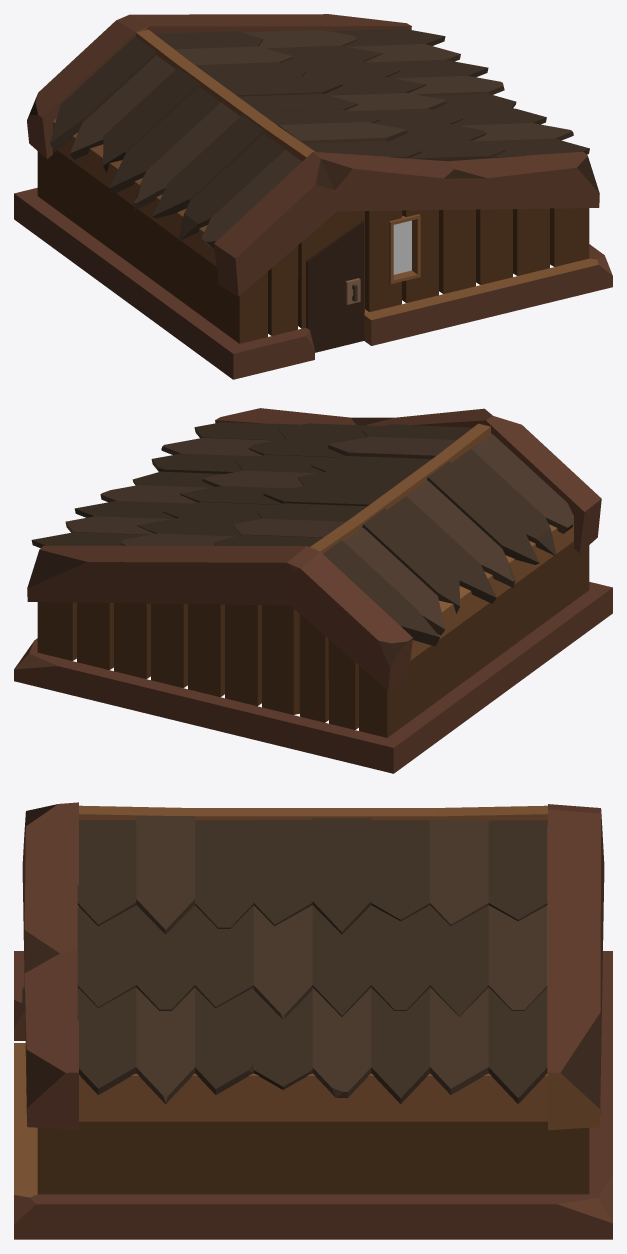
The model's file is SM_Hous_08_B.gltf.
3 renders of one model, top to bottom at view 1: azimuth 30°, elevation 25°; view 2: azimuth 150°, elevation 25°; view 3: azimuth 270°, elevation 25°, orthographic. The views are drawn at different scales.
Visible parts, largest first — view 1: SM_Hous_08_B; view 2: SM_Hous_08_B; view 3: SM_Hous_08_B.
Boxes of the visible parts, x1=… form: SM_Hous_08_B: x1=14, y1=14, x2=612, y2=379; SM_Hous_08_B: x1=14, y1=408, x2=612, y2=773; SM_Hous_08_B: x1=14, y1=802, x2=612, y2=1239.
Size of the model in its own units: 7.18 by 3.16 by 6.78.
